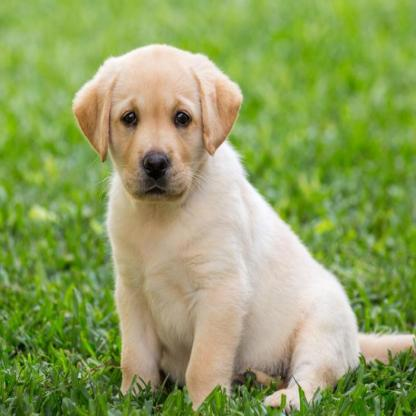dog: (69, 40, 416, 412)
